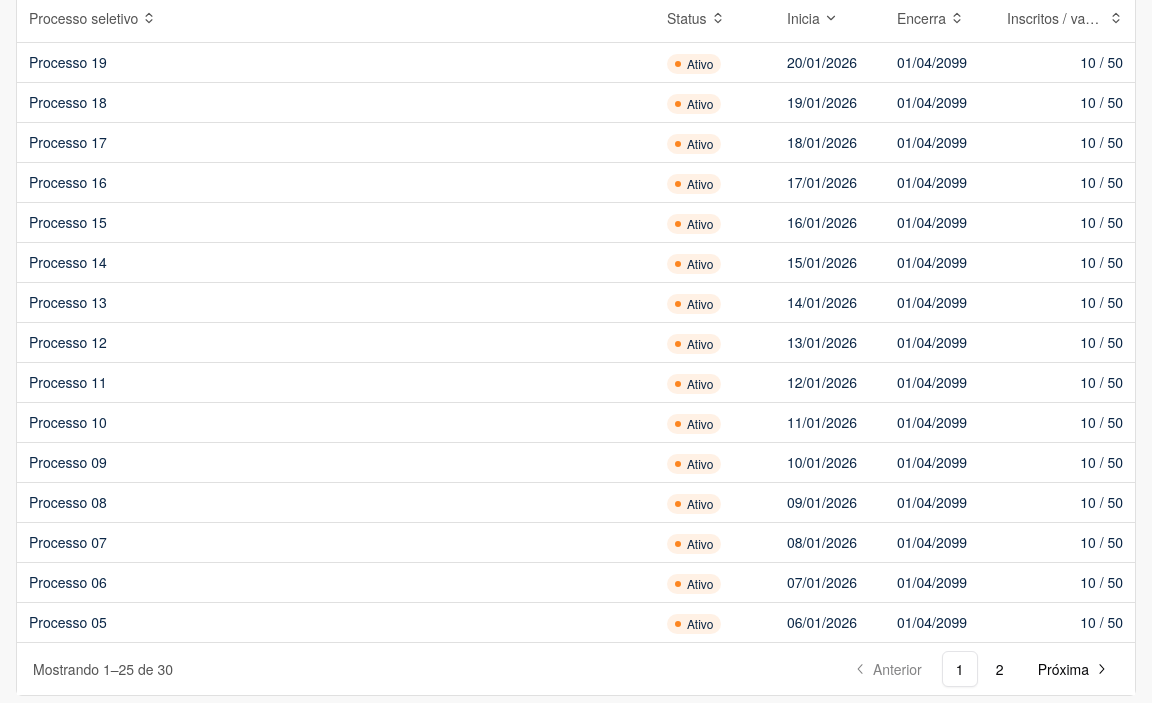
Test: Processos Seletivos na Dash V2 (tickets/021 card 04) › filtros por nome, Inicia em e Criado em (card 05) › ⚠️ mudar um filtro de data volta para a página 1
(page scrolled)
Click the link with aria-label "Próxima página" at (1073, 669), box [1038,659,1109,679]
(page scrolled)
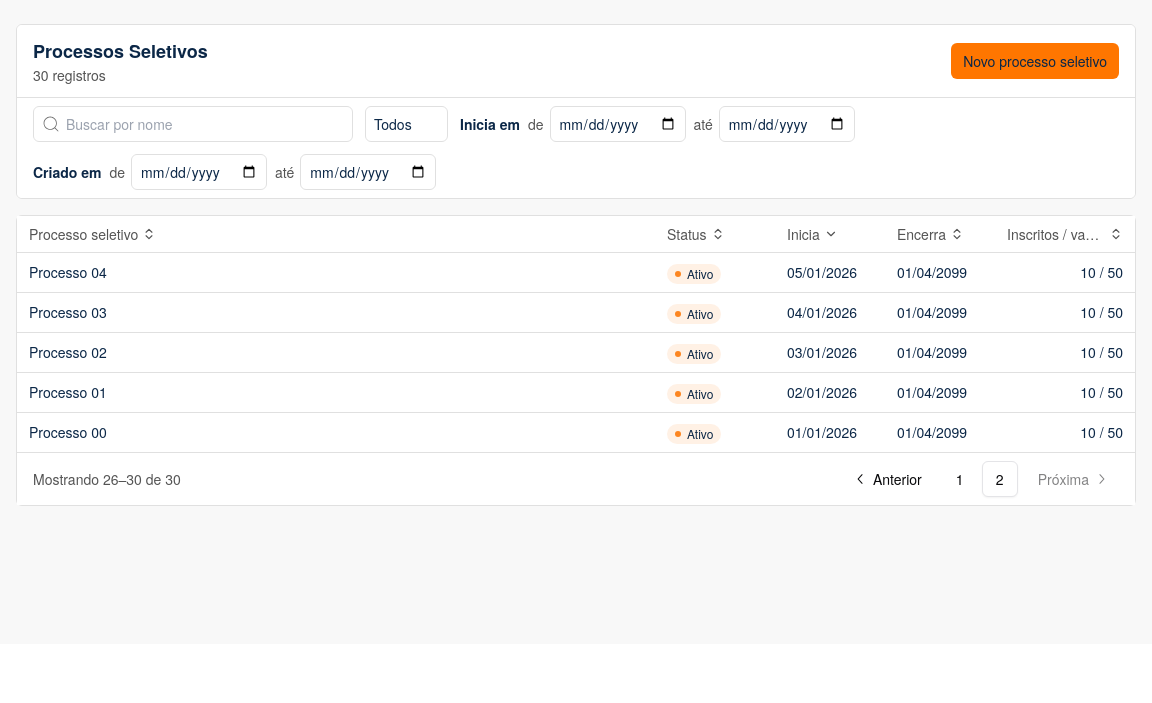
Result: the text "Processo 00" is shown at [29,422,107,442]
Type "2026-01-02" into the date field named "Inicia em — de" at (618, 124), box [550,106,686,142]
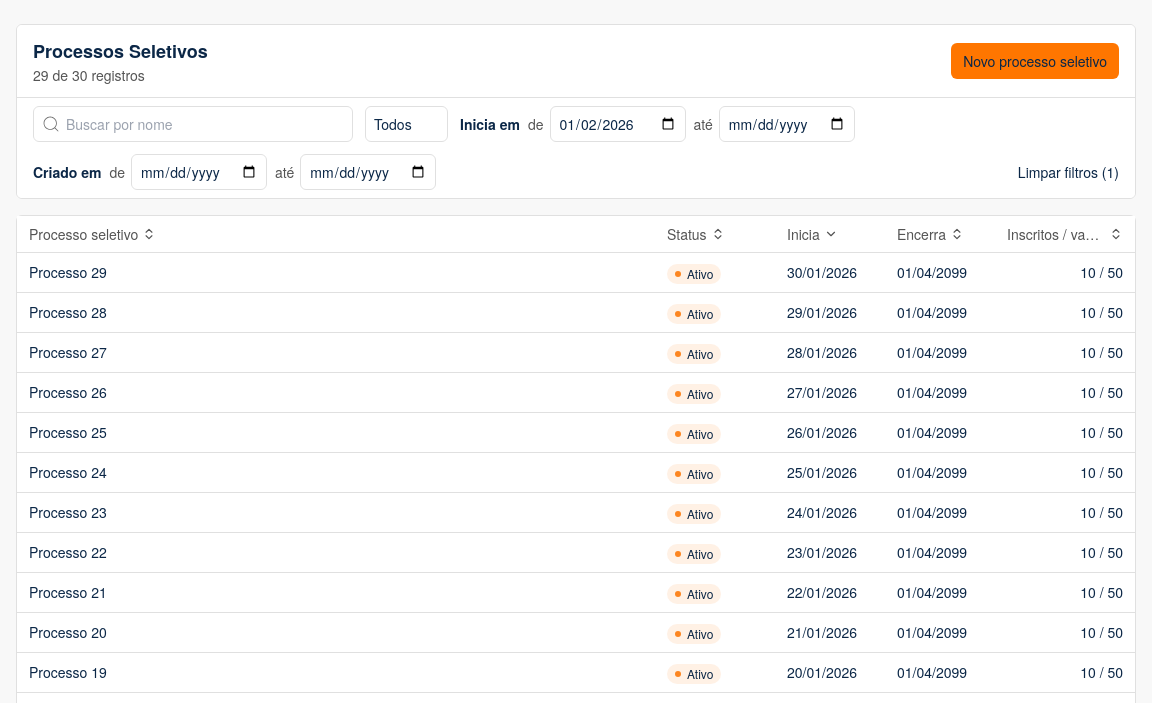
Result: the text "Processo 29" is shown at [29,262,107,282]
